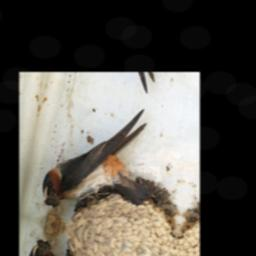Swallow: (39, 83, 151, 229)
